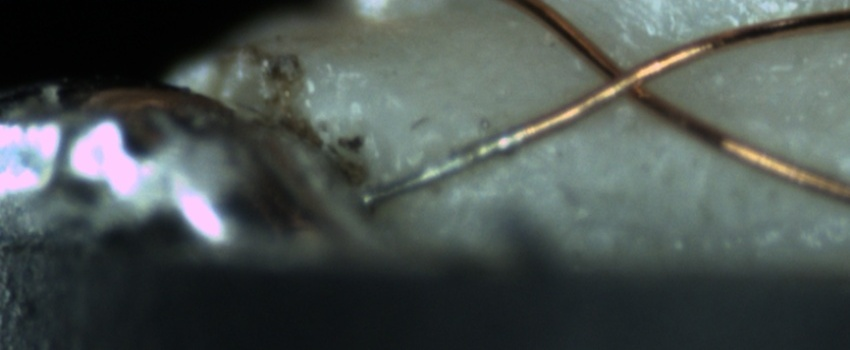CL: (577, 40, 672, 113)
TS: (360, 128, 519, 208)
TTCW: (356, 113, 530, 204)
